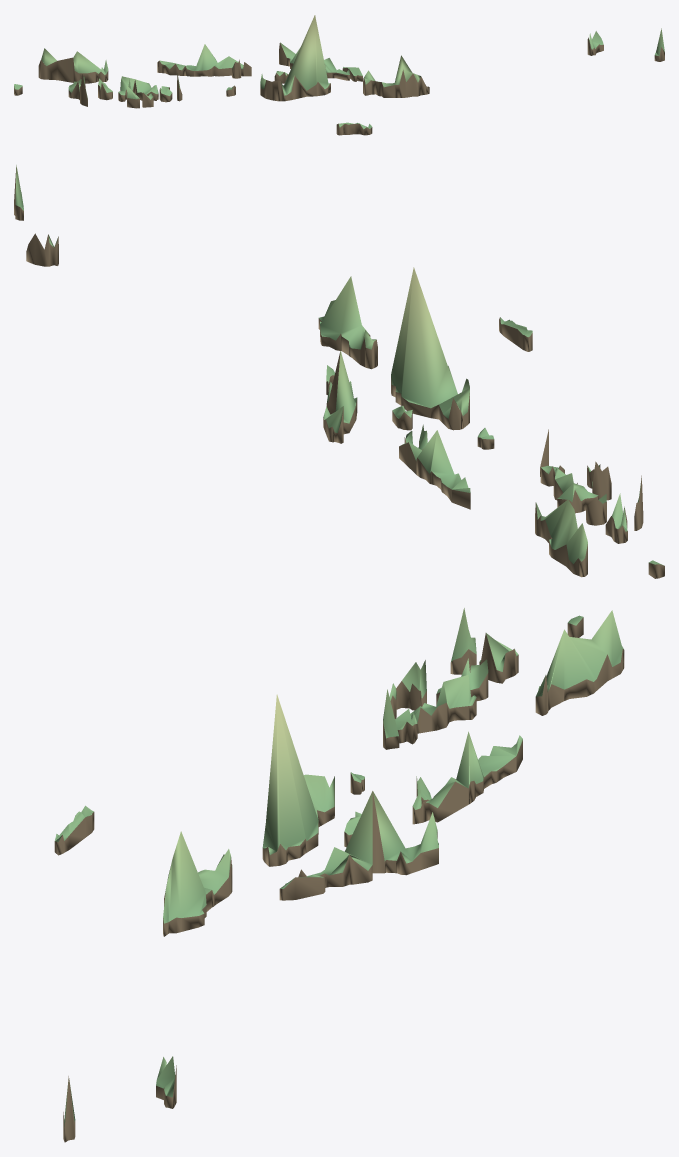
Rendered from SLB.glb.
3 views of the same model, one above another, from view 1: azimuth 30°, elevation 25°; view 2: azimuth 150°, elevation 25°; view 3: azimuth 270°, elevation 25° (orthographic). The views are drawn at different scales.
Visible parts, largest first — view 1: SLB; view 2: SLB; view 3: SLB.
Part boxes in pixels (x1,y1,x2,y2): SLB: [14, 15, 664, 135]; SLB: [14, 165, 664, 578]; SLB: [54, 608, 624, 1142].
Bounding box in the file's own units: 1.71 × 0.2488 × 0.806.
